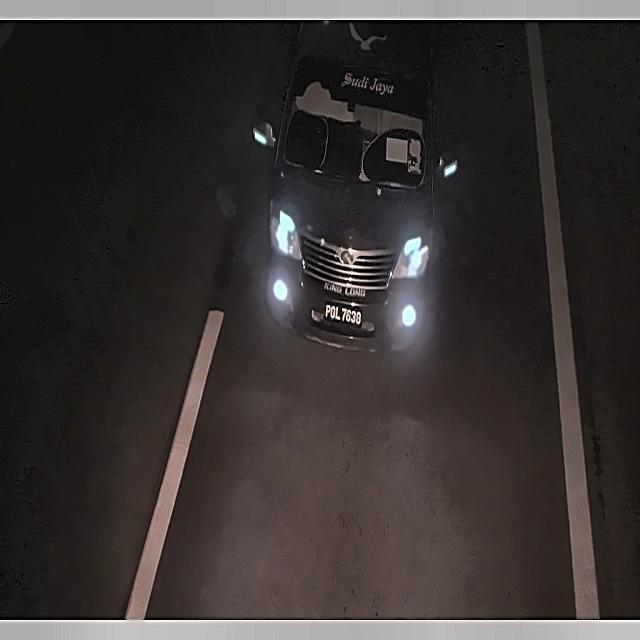car: (319, 296, 366, 333)
